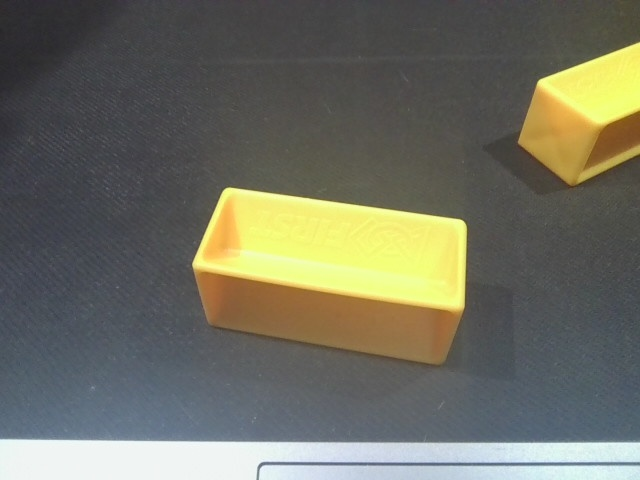YellowSample: (187, 186, 471, 375), (517, 37, 640, 190)
